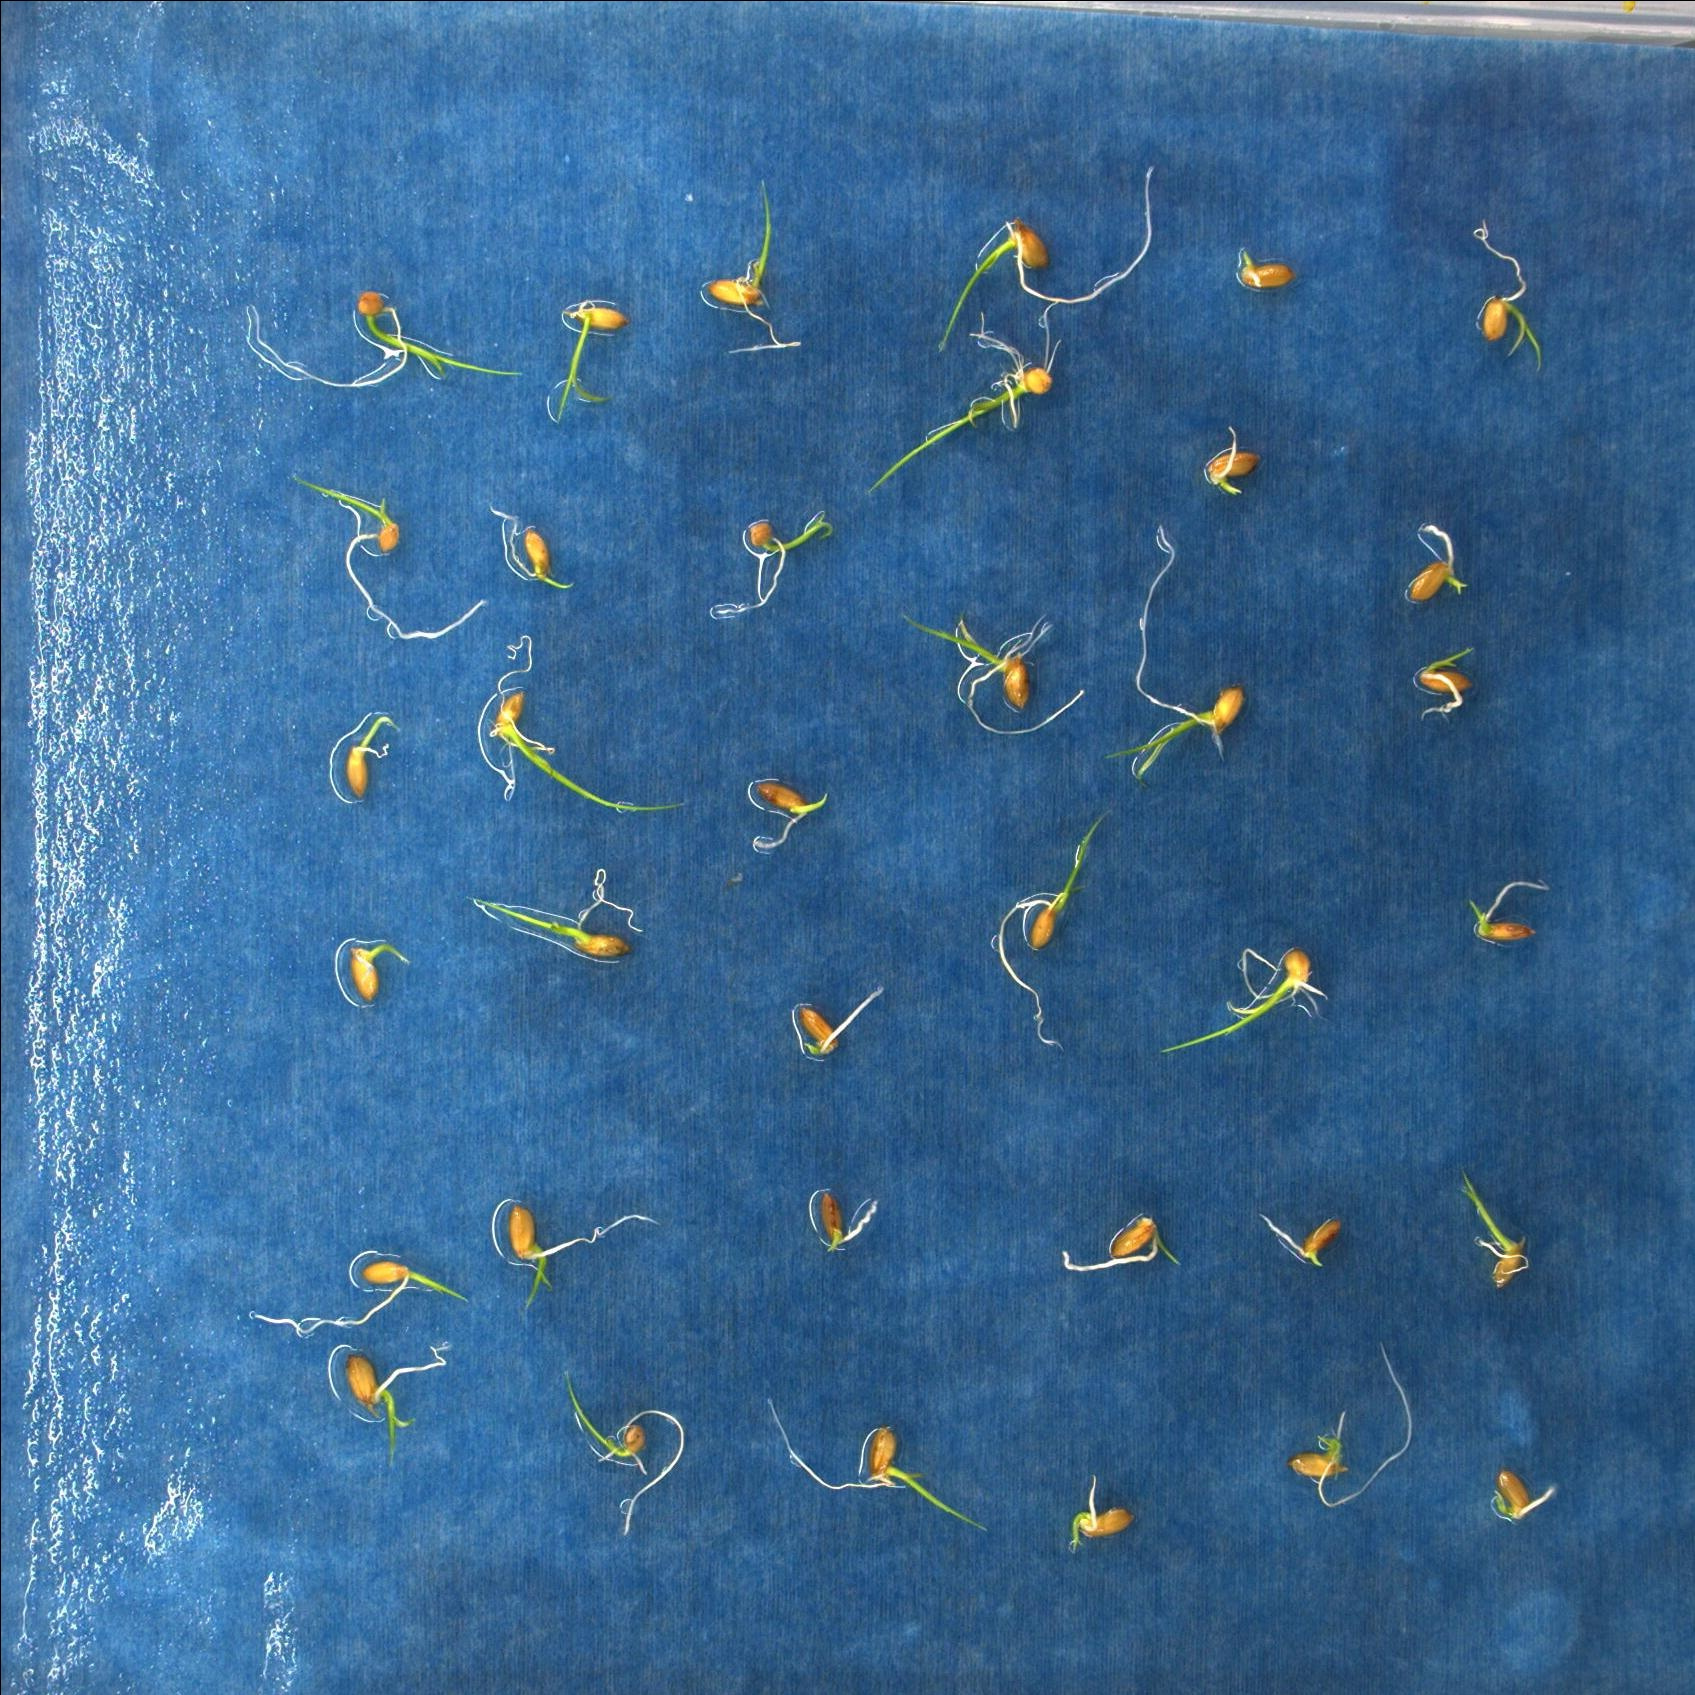not sprout: (1453, 861, 1557, 955), (782, 978, 889, 1066), (1397, 512, 1478, 601), (813, 1183, 899, 1260), (1256, 1205, 1347, 1274), (1066, 1476, 1146, 1555), (1485, 1465, 1562, 1523), (1229, 237, 1298, 298)
sprout: (927, 169, 1178, 355), (858, 321, 1076, 511), (470, 646, 697, 821), (1107, 520, 1257, 782), (234, 281, 526, 407), (284, 469, 490, 643), (987, 809, 1122, 1048), (767, 1395, 987, 1541), (899, 605, 1087, 733), (1281, 1349, 1426, 1510), (1159, 941, 1333, 1069), (560, 1369, 689, 1537), (697, 172, 807, 354), (500, 1191, 657, 1316), (467, 869, 661, 970), (255, 1256, 477, 1338), (702, 489, 830, 627), (329, 1340, 456, 1479), (1461, 220, 1554, 379), (542, 296, 646, 425), (1052, 1201, 1198, 1276), (1458, 1173, 1544, 1291), (489, 504, 577, 601), (331, 712, 413, 812), (1406, 638, 1495, 730), (742, 768, 835, 854), (1195, 424, 1287, 497), (348, 931, 418, 1018)
